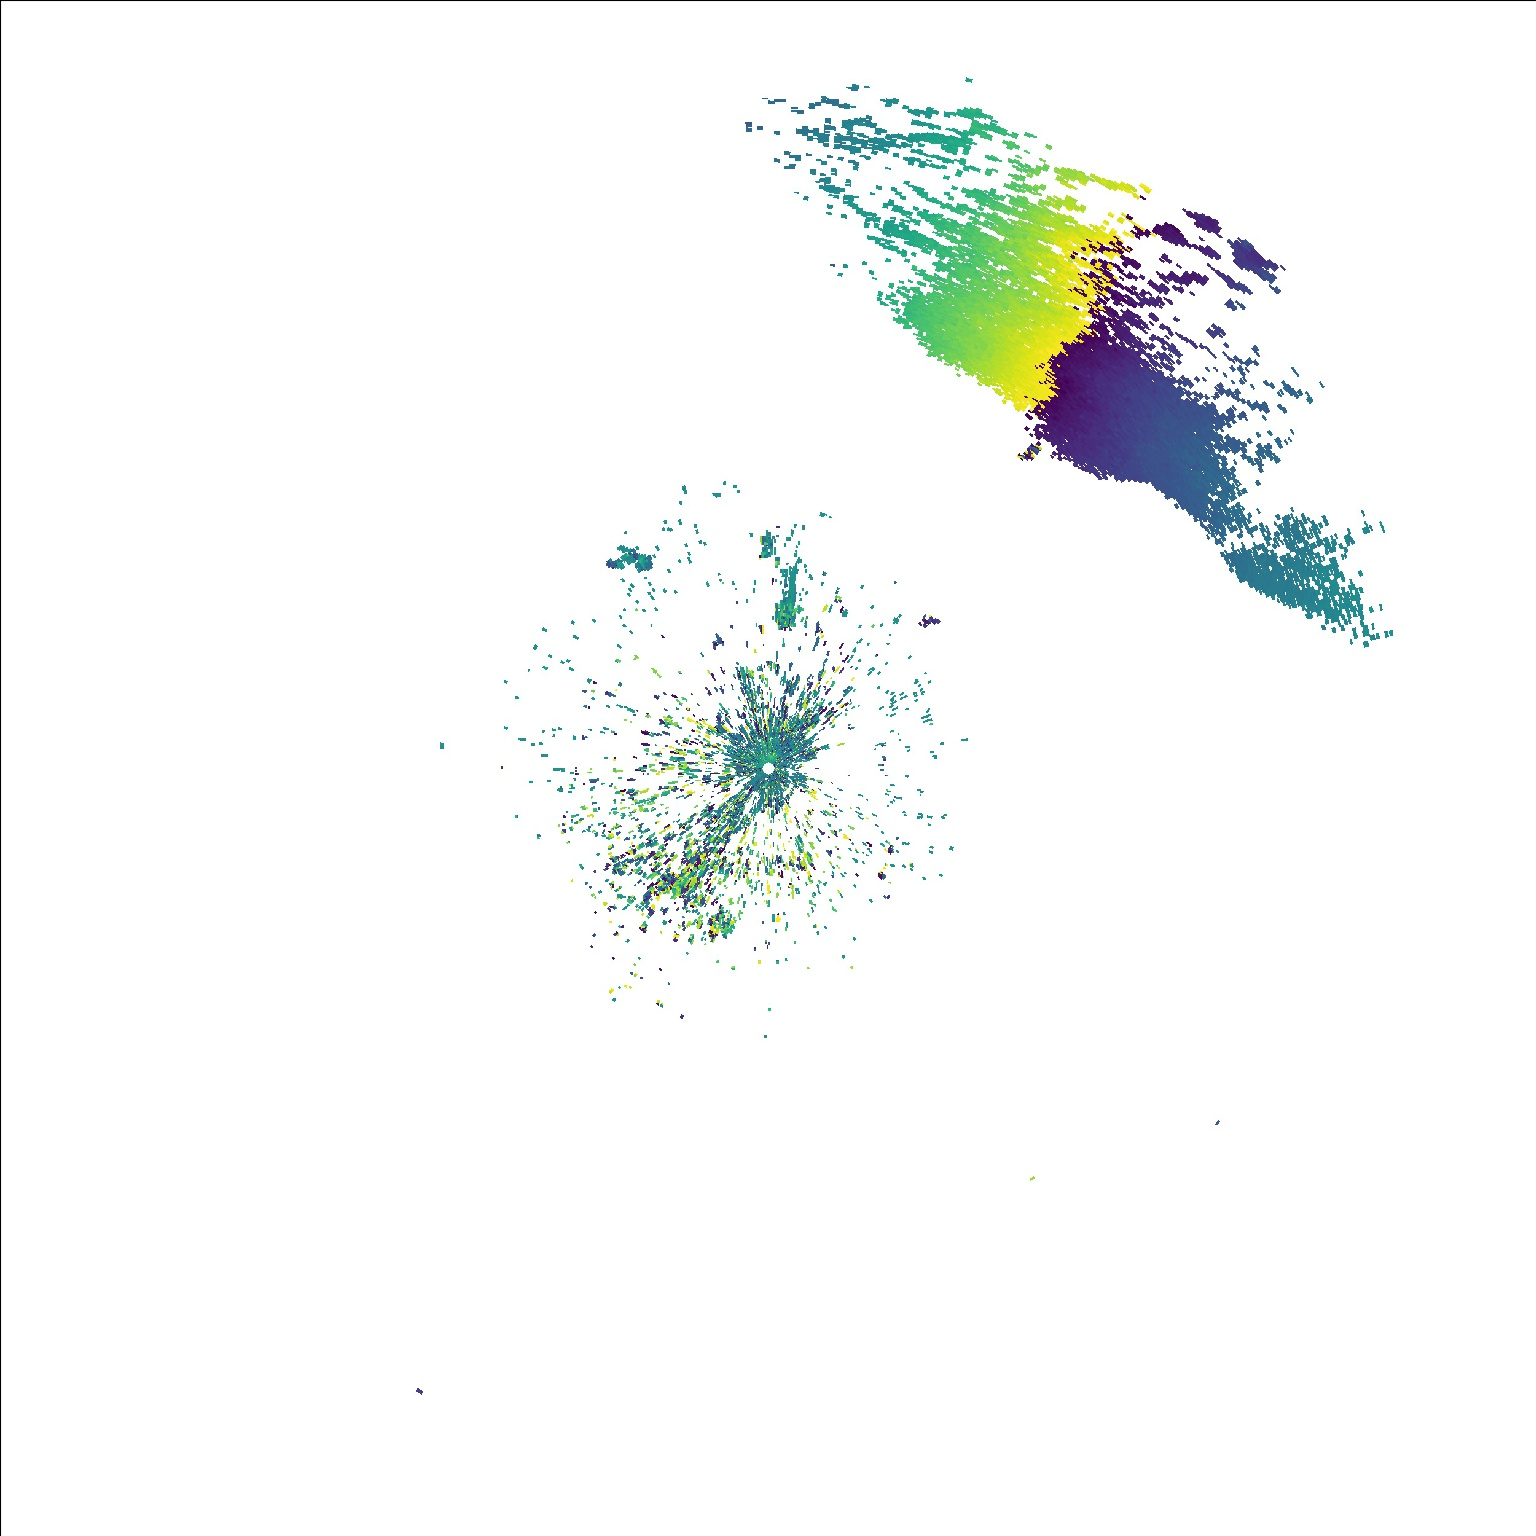fall: (1011, 440, 1044, 467)
